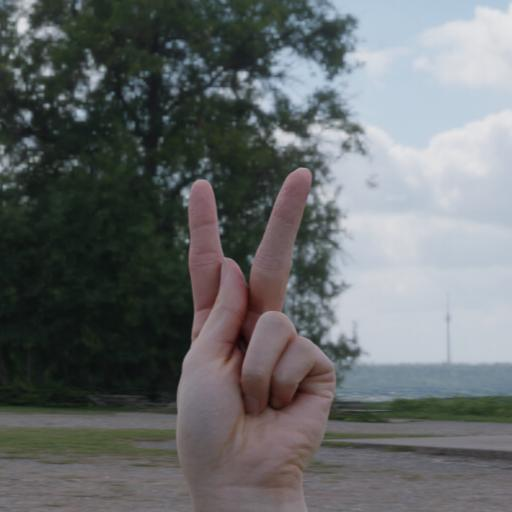K: (152, 168, 343, 498)
